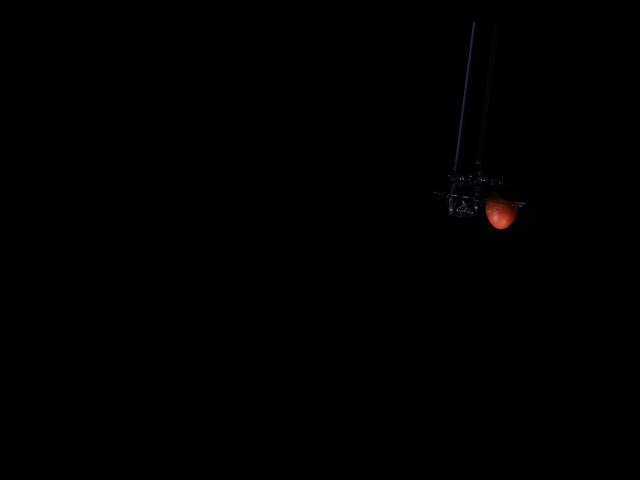egg: (483, 181, 523, 230)
